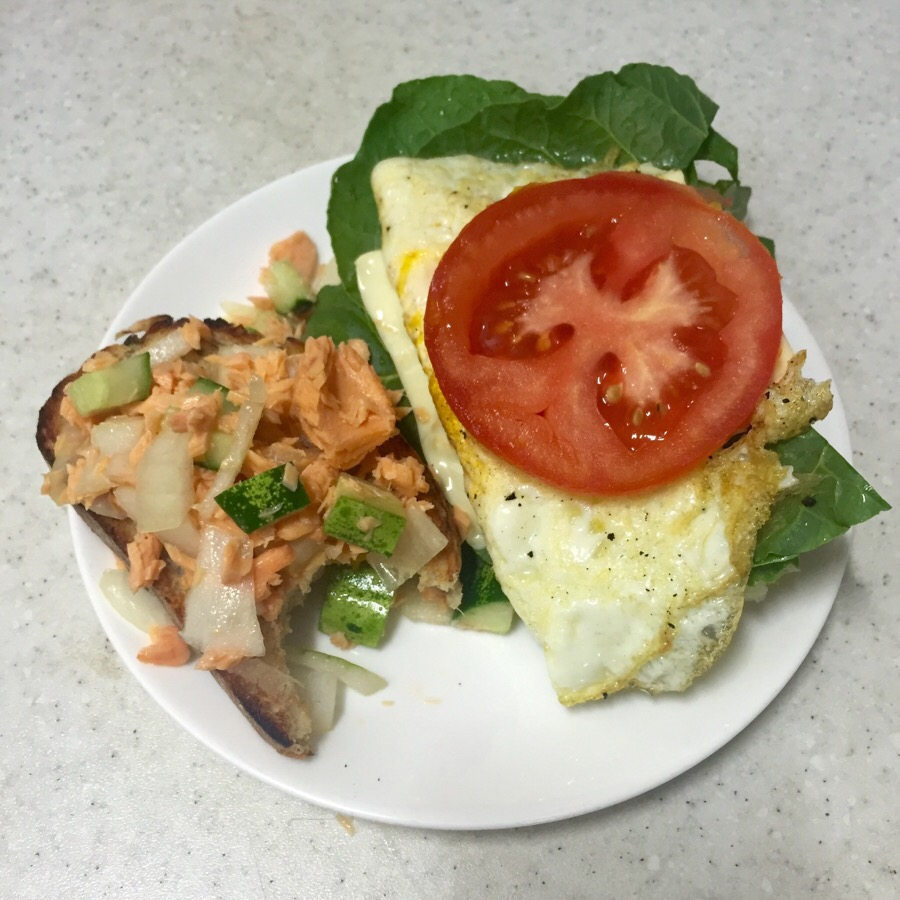chopped lettuce: (366, 60, 729, 180)
fried egg: (372, 180, 742, 686)
